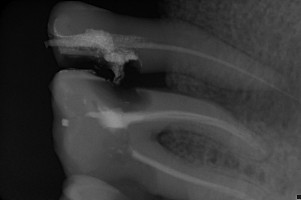Endo-Periodontal Lesion: (156, 130, 170, 151)
